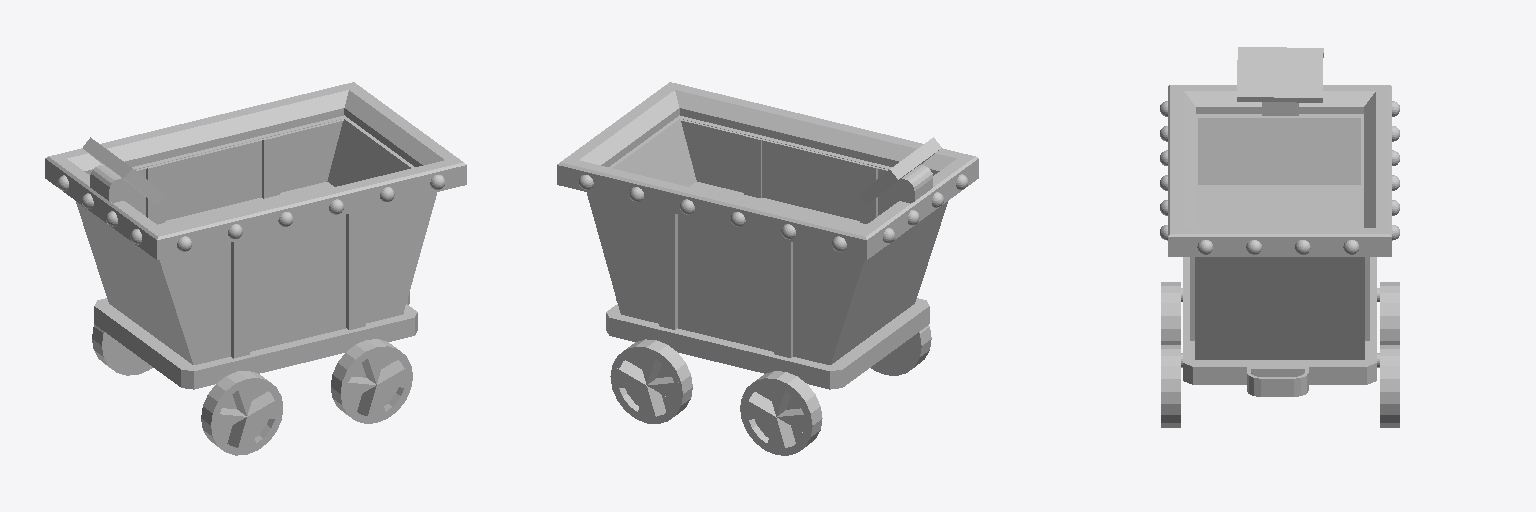
The model's file is crate4.obj.
The picture shows the model from 3 angles: view 1: azimuth 30°, elevation 25°; view 2: azimuth 150°, elevation 25°; view 3: azimuth 270°, elevation 25°; orthographic projection.
Visible parts, largest first — view 1: group1 pCube6, pCube4 group1, group1 pCylinder18; view 2: group1 pCube6, pCube4 group1, group1 pCylinder18; view 3: pCube4 group1, group1 pCube6, group1 pCylinder18.
Part boxes in pixels (left/top/right/bottom): group1 pCube6: left=45, top=82, right=466, bottom=455; pCube4 group1: left=76, top=118, right=436, bottom=364; group1 pCylinder18: left=57, top=175, right=444, bottom=251; group1 pCube6: left=557, top=82, right=978, bottom=455; pCube4 group1: left=587, top=118, right=947, bottom=364; group1 pCylinder18: left=579, top=174, right=967, bottom=251; pCube4 group1: left=1195, top=47, right=1364, bottom=359; group1 pCube6: left=1161, top=85, right=1399, bottom=427; group1 pCylinder18: left=1160, top=101, right=1399, bottom=367.
Bounding box in the file's own units: 92.5 × 75.73 × 59.52.